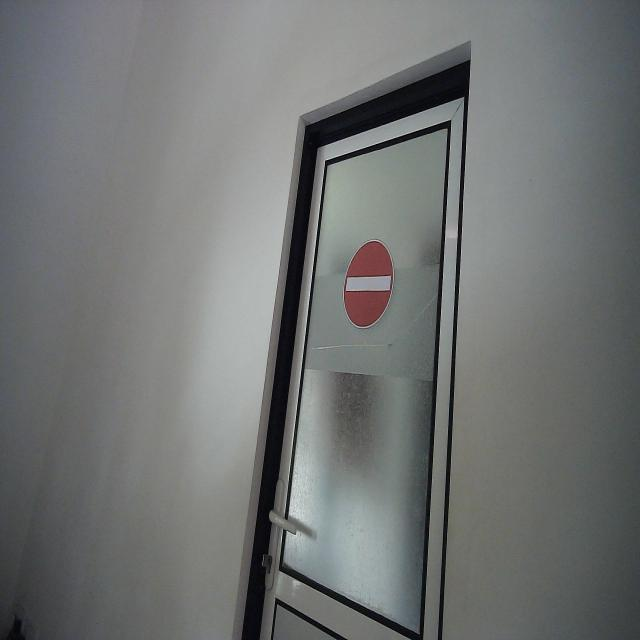no_entry: (342, 238, 396, 329)
